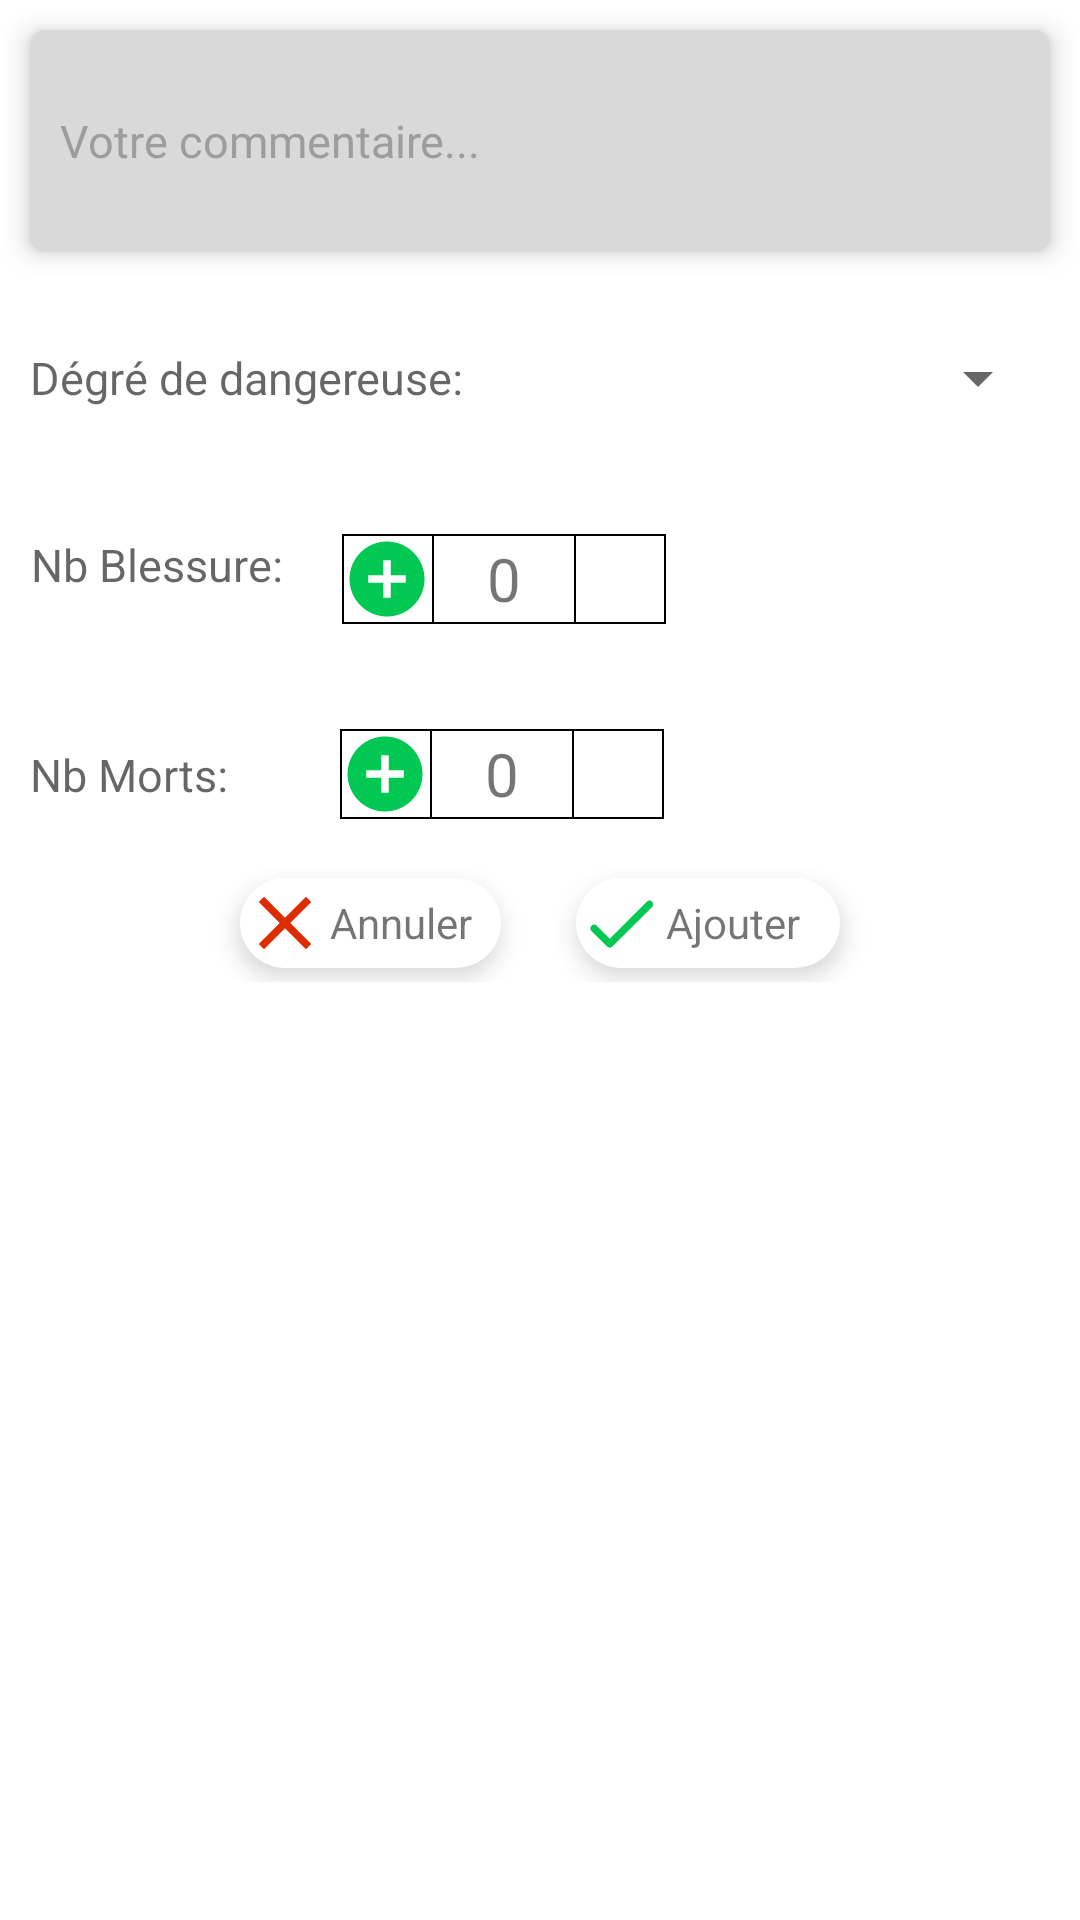

Point at icon controls on the screen. Image size 1080*1920, points as (x,y).
add circle: (387,579), (385,774)
check: (622,924)
close: (277,923)
